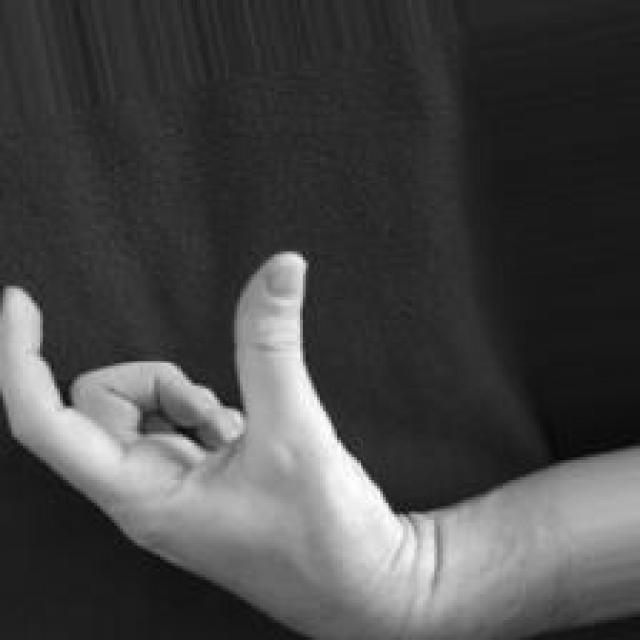U: (1, 243, 423, 640)
